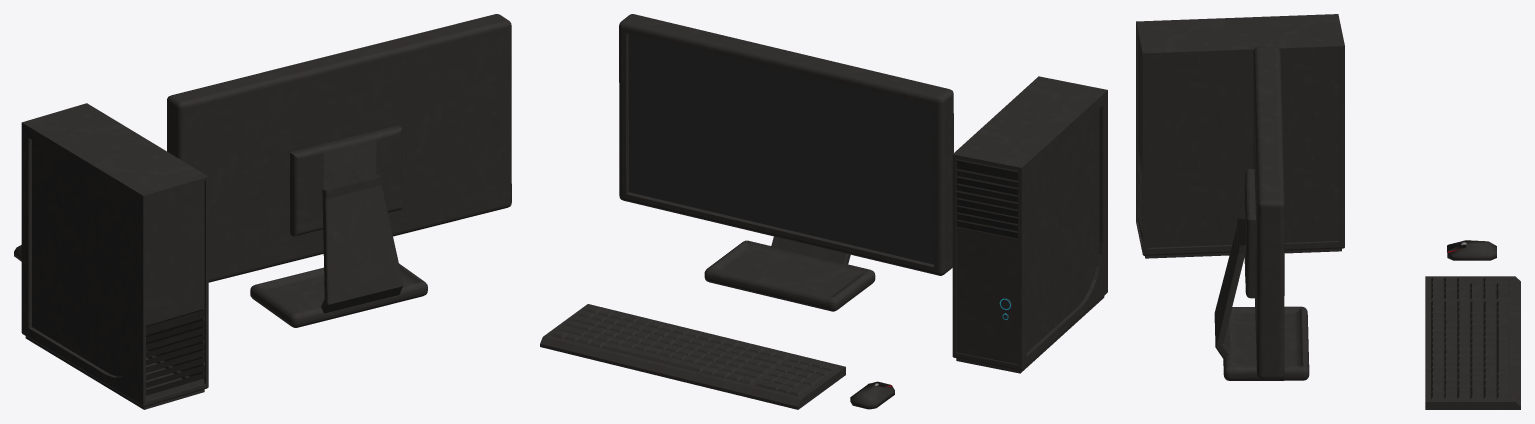
The model's file is computer.glb.
3 renders of one model, left to right at view 1: azimuth 30°, elevation 25°; view 2: azimuth 150°, elevation 25°; view 3: azimuth 270°, elevation 25°, orthographic. The views are drawn at different scales.
Parts seen in each view (by area): view 1: Cube.023; view 2: Cube.023; view 3: Cube.023.
Boxes of the visible parts, <box> form: Cube.023: <box>14,14,511,409</box>; Cube.023: <box>540,14,1107,409</box>; Cube.023: <box>1136,14,1520,409</box>.
Bounding box in the file's own units: 0.6874 × 0.3481 × 0.5327.
5 materials, 1 textured.
